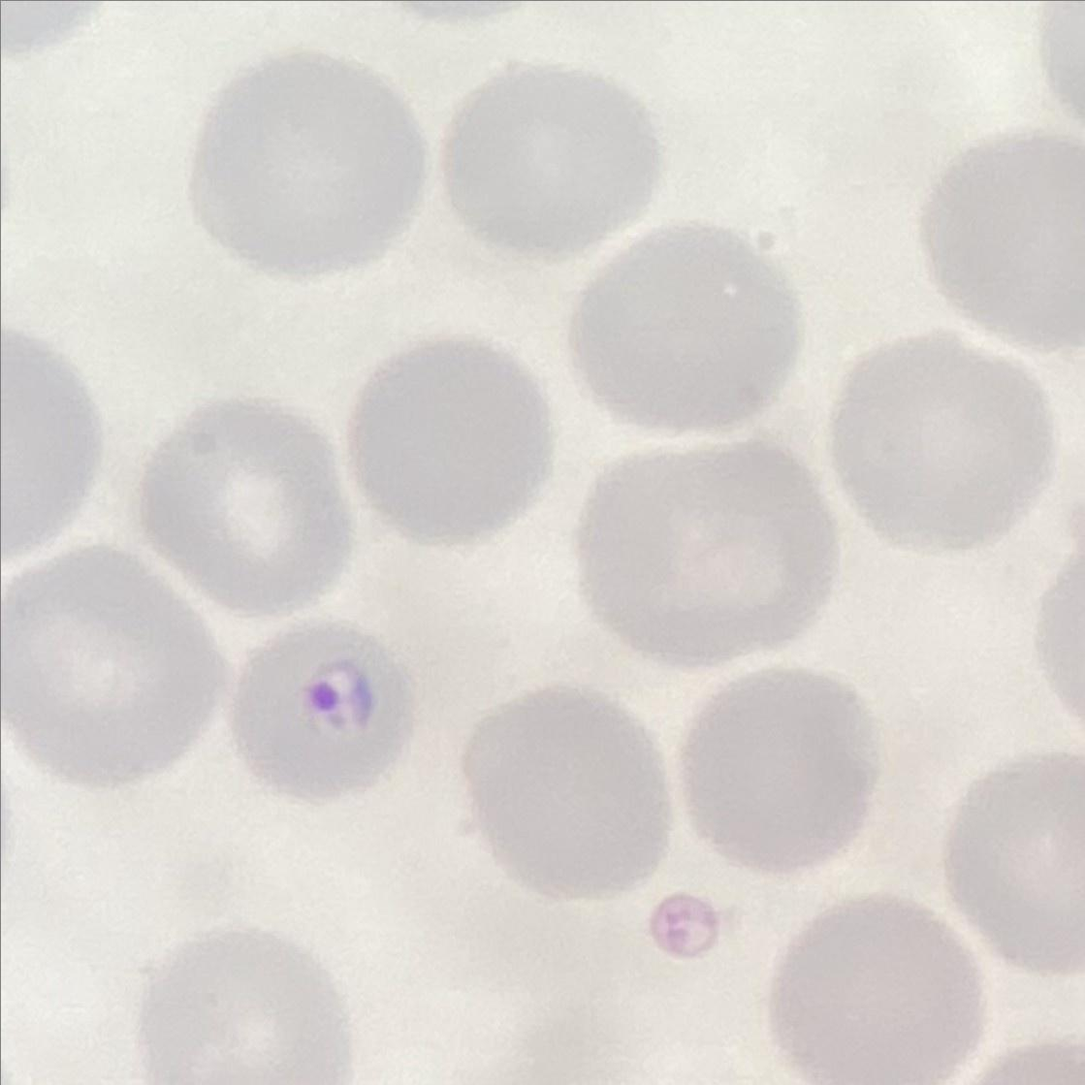Infected: (226, 615, 418, 801)
Uninfected: (572, 441, 840, 661), (0, 538, 226, 797), (187, 53, 429, 277), (126, 395, 360, 614), (837, 331, 1049, 553), (343, 340, 560, 551), (569, 224, 795, 424), (452, 690, 664, 903), (443, 62, 659, 258), (672, 670, 871, 877), (776, 893, 987, 1085), (921, 127, 1085, 361), (129, 925, 351, 1085), (941, 744, 1085, 976)
